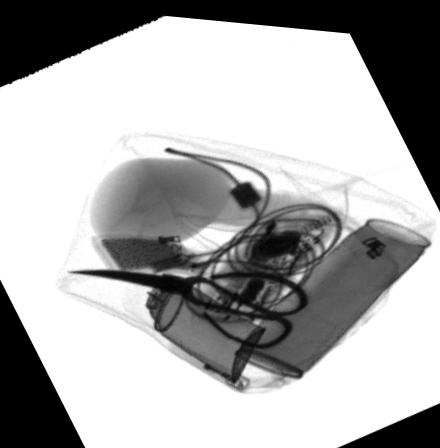Lighter: (191, 342, 260, 391)
Powerbank: (87, 232, 191, 277)
Scissors: (64, 263, 317, 350)
Sprayer: (115, 267, 272, 377)
